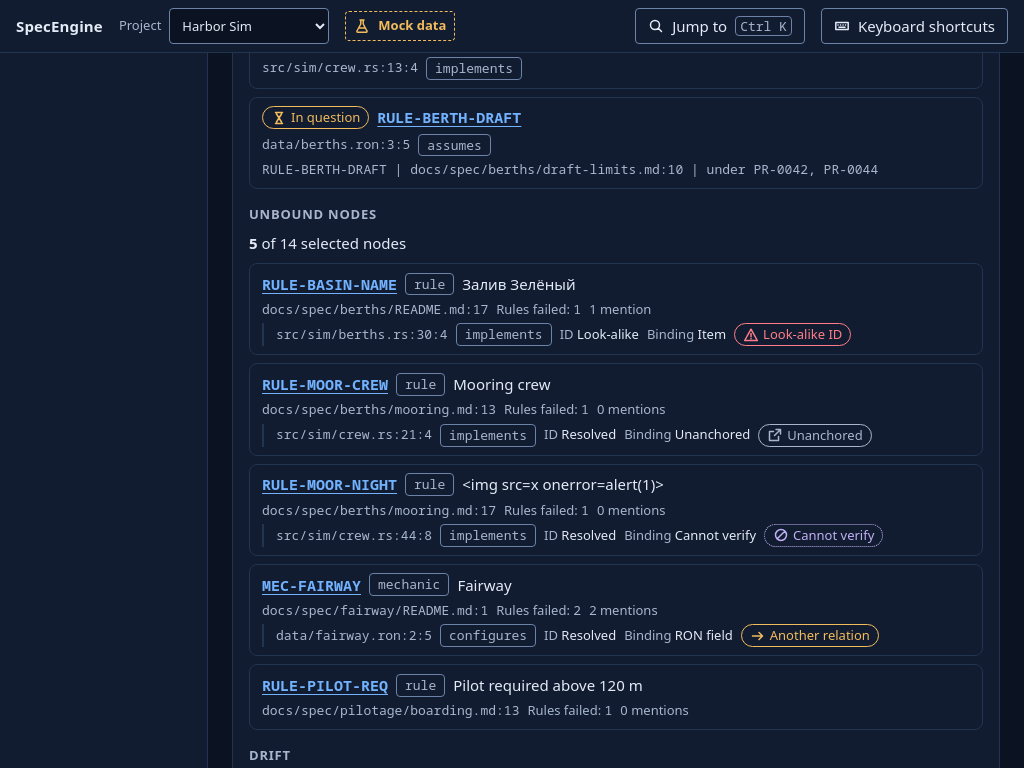
Test: Health over the mock › normal: unbound's RULE-MOOR-CREW opens its node in the tree (UI-6)
(page scrolled)
Click the link "RULE-MOOR-CREW". click: coordinates (325, 384)
box: [262, 372, 388, 396]
(page scrolled)
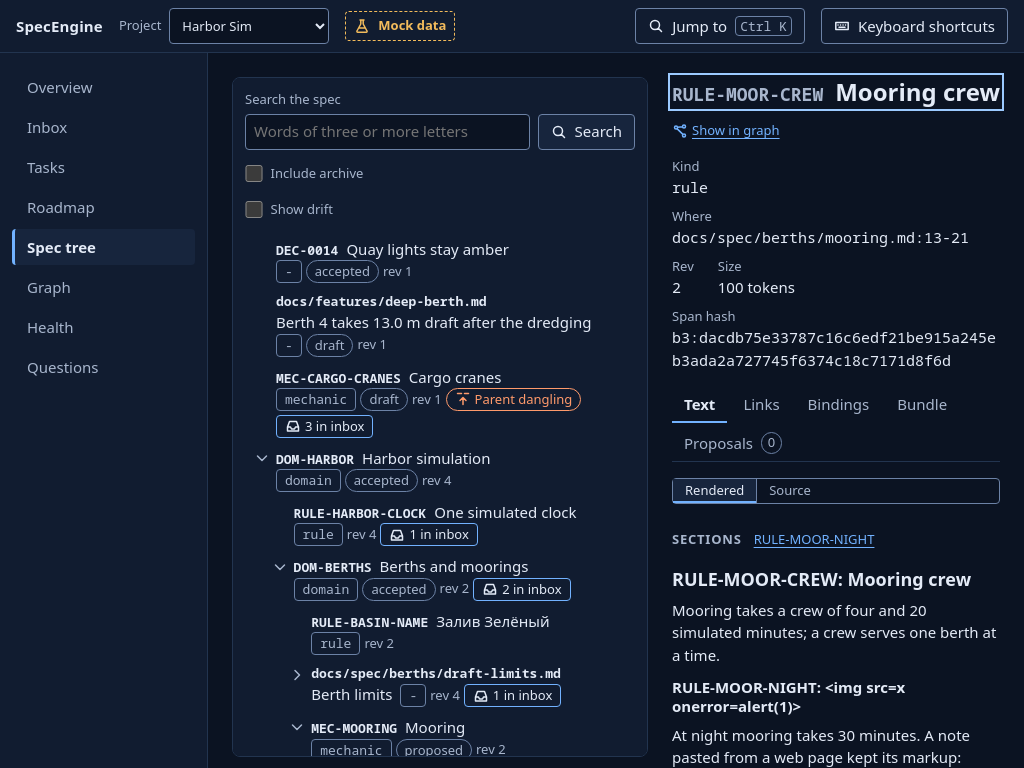
Result: the heading "RULE-MOOR-CREW Mooring crew" is shown at [672, 77, 1000, 107]
